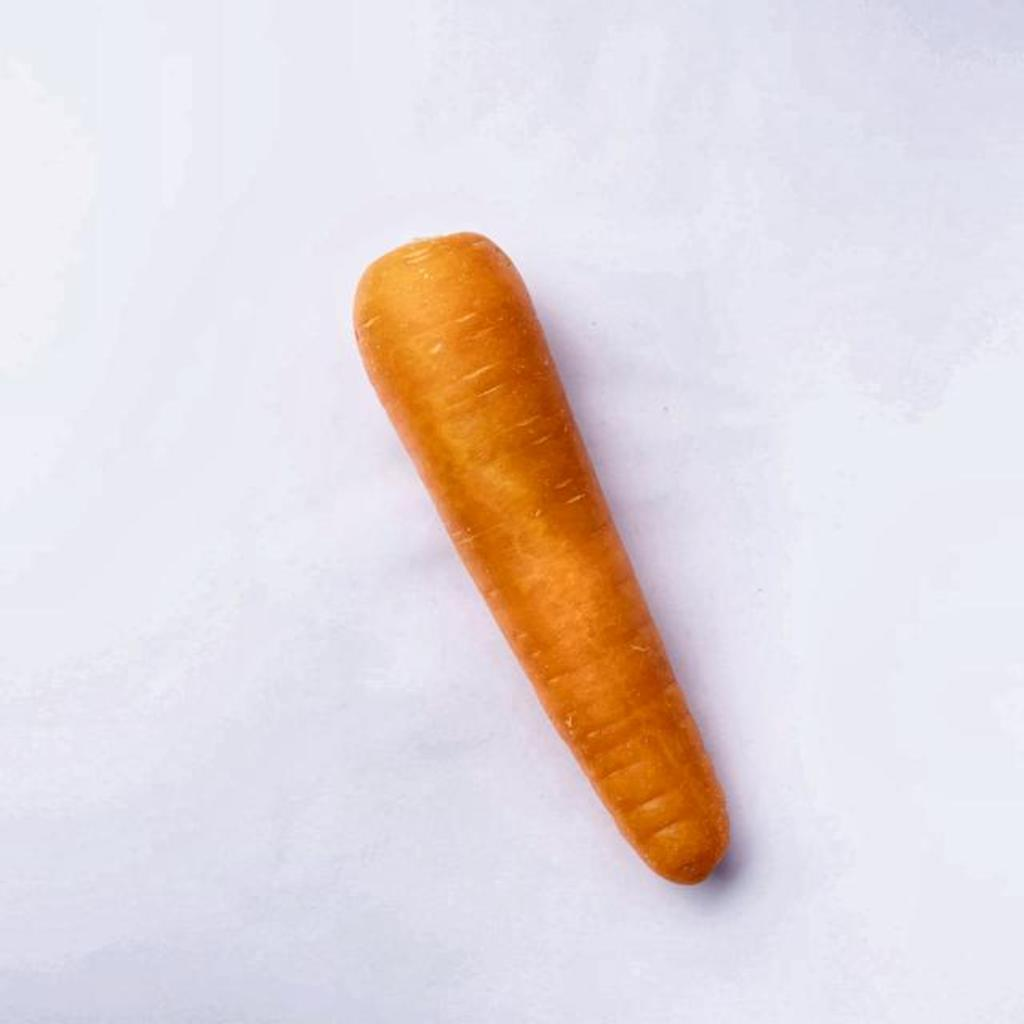carrot: (354, 234, 728, 883)
